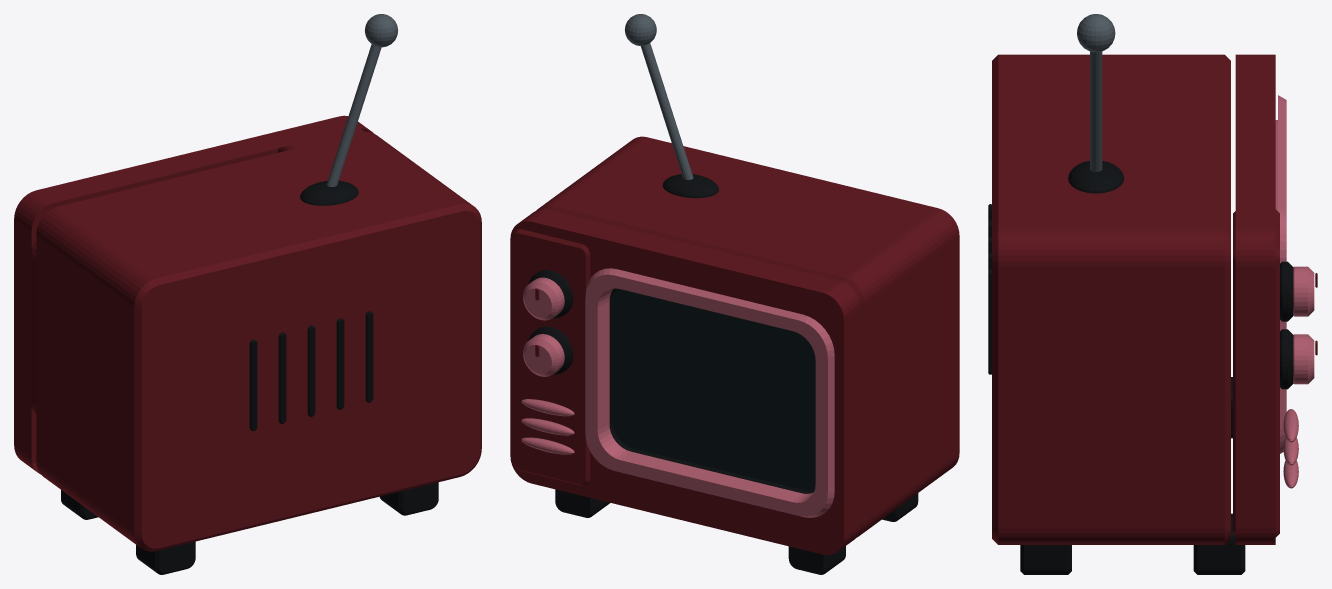
File: CartoonCRT.obj
The picture shows the model from 3 angles, left to right: view 1: azimuth 30°, elevation 25°; view 2: azimuth 150°, elevation 25°; view 3: azimuth 270°, elevation 25°; orthographic projection. The views are drawn at different scales.
Visible parts, largest first — view 1: Cabinet, FrontSurround, Antenna, Foot-0.210.14, Foot0.210.14, AntennaMount, AntennaTip, RearVent4, RearVent3, RearVent0, RearVent1, RearVent2; view 2: Cabinet, Screen_RenderTexture, FrontSurround, PinkBezel, ControlPanel, InnerGasket, Antenna, PinkDial0, PinkDial1, Foot-0.21-0.085, AntennaMount, Foot0.21-0.085 (+3 smaller); view 3: Cabinet, FrontSurround, ControlPanel, PinkBezel, Foot0.21-0.085, Antenna, Foot0.210.14, AntennaMount, AntennaTip, PinkDial0, PinkDial1, DialSocket0 (+3 smaller).
Boxes of the visible parts, left/top/right/bottom form: Cabinet: left=36, top=132, right=481, bottom=551; FrontSurround: left=14, top=115, right=373, bottom=474; Antenna: left=326, top=44, right=381, bottom=186; Foot-0.210.14: left=136, top=541, right=195, bottom=574; Foot0.210.14: left=379, top=482, right=438, bottom=515; AntennaMount: left=300, top=180, right=358, bottom=205; AntennaTip: left=364, top=14, right=398, bottom=47; RearVent4: left=365, top=311, right=373, bottom=402; RearVent3: left=336, top=318, right=344, bottom=409; RearVent0: left=249, top=339, right=257, bottom=430; RearVent1: left=278, top=332, right=286, bottom=423; RearVent2: left=307, top=325, right=315, bottom=416; Cabinet: left=537, top=136, right=959, bottom=537; Screen_RenderTexture: left=613, top=288, right=815, bottom=490; FrontSurround: left=510, top=209, right=860, bottom=555; PinkBezel: left=585, top=268, right=834, bottom=517; ControlPanel: left=512, top=229, right=590, bottom=485; InnerGasket: left=609, top=288, right=814, bottom=493; Antenna: left=640, top=43, right=693, bottom=179; PinkDial0: left=523, top=277, right=564, bottom=320; PinkDial1: left=523, top=334, right=564, bottom=376; Foot-0.21-0.085: left=788, top=546, right=845, bottom=574; AntennaMount: left=662, top=174, right=718, bottom=198; Foot0.21-0.085: left=555, top=489, right=609, bottom=517; Cabinet: left=992, top=54, right=1230, bottom=544; FrontSurround: left=1235, top=54, right=1275, bottom=544; ControlPanel: left=1233, top=209, right=1279, bottom=537; PinkBezel: left=1275, top=95, right=1286, bottom=453; Foot0.21-0.085: left=1193, top=513, right=1245, bottom=574; Antenna: left=1090, top=51, right=1102, bottom=171; Foot0.210.14: left=1020, top=545, right=1071, bottom=574; AntennaMount: left=1068, top=161, right=1124, bottom=193; AntennaTip: left=1077, top=14, right=1115, bottom=52; PinkDial0: left=1293, top=266, right=1314, bottom=316; PinkDial1: left=1293, top=334, right=1314, bottom=384; DialSocket0: left=1280, top=261, right=1293, bottom=321.
Bounding box in the file's own units: 0.6 × 0.785 × 0.4275.
